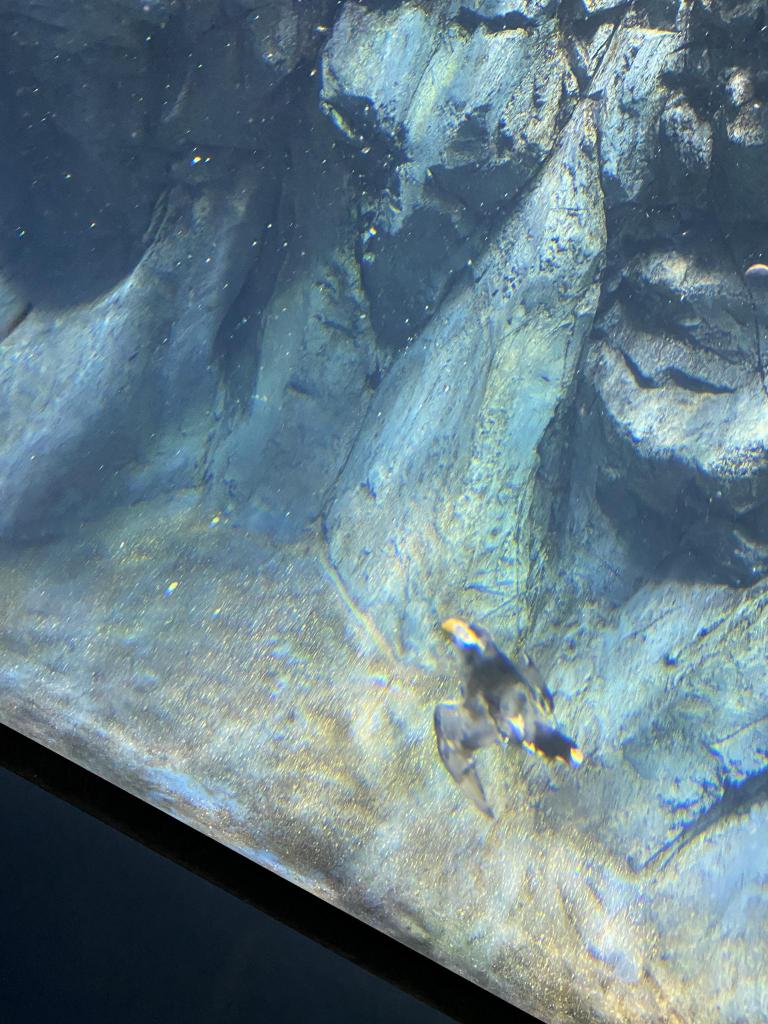puffin: (432, 616, 582, 820)
